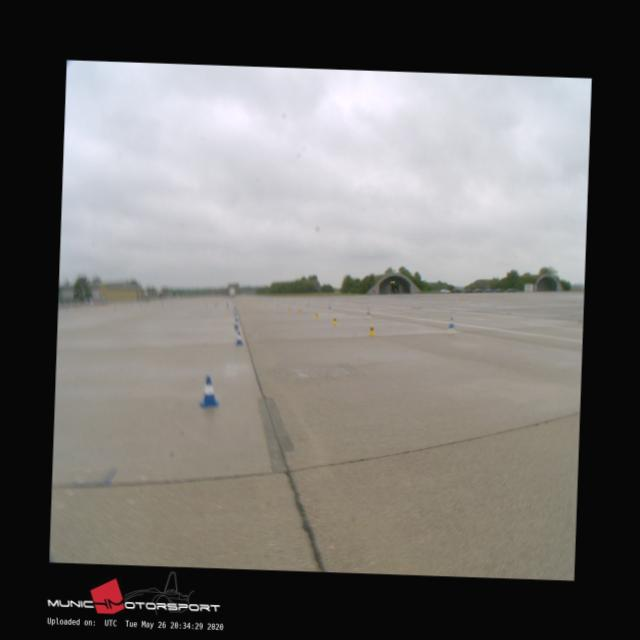blue_cone: (200, 376, 218, 406), (235, 332, 243, 344)
yellow_cone: (368, 323, 375, 335), (332, 316, 338, 324)
